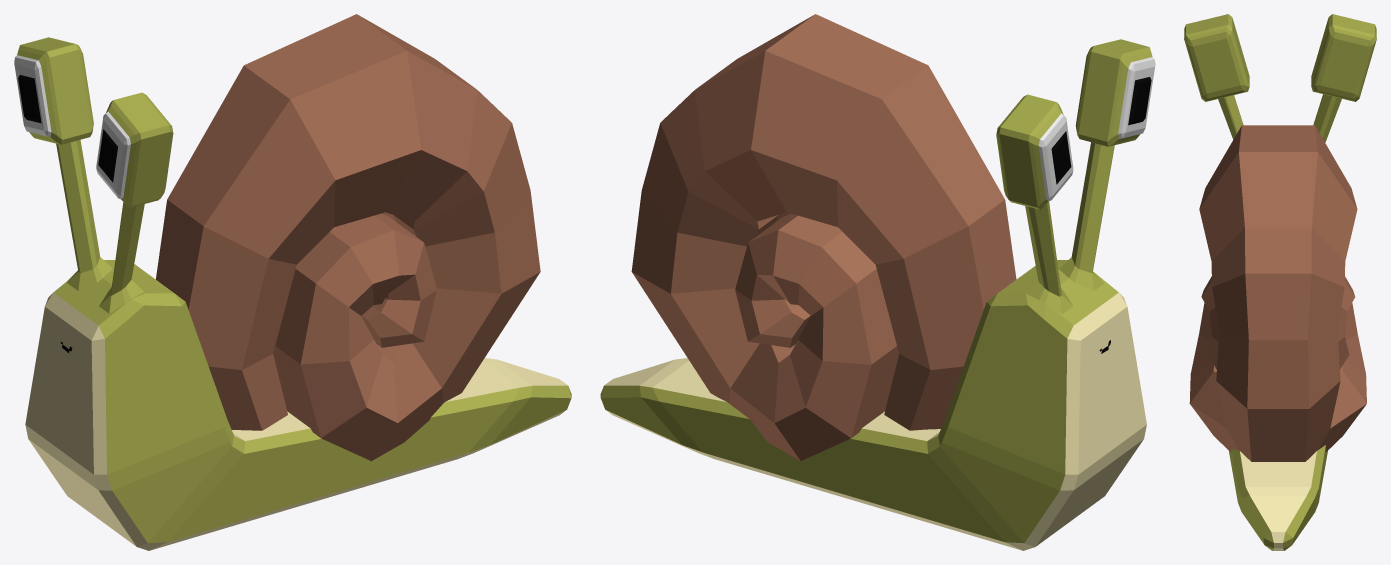
The model's file is free_stylized_low_poly_snail.glb.
3 views of the same model, side by side, from view 1: azimuth 30°, elevation 25°; view 2: azimuth 150°, elevation 25°; view 3: azimuth 270°, elevation 25° (orthographic). The views are drawn at different scales.
Parts seen in each view (by area): view 1: Shell, Cube.002; view 2: Shell, Cube.002; view 3: Shell, Cube.002.
Boxes of the visible parts, x1,y1,x2,y2 form: Shell: (156, 14, 540, 461); Cube.002: (14, 37, 571, 550); Shell: (631, 14, 1016, 460); Cube.002: (600, 39, 1155, 550); Shell: (1189, 125, 1366, 461); Cube.002: (1184, 14, 1376, 550).
Size of the model in its own units: 0.7618 by 0.6542 by 0.3174.
